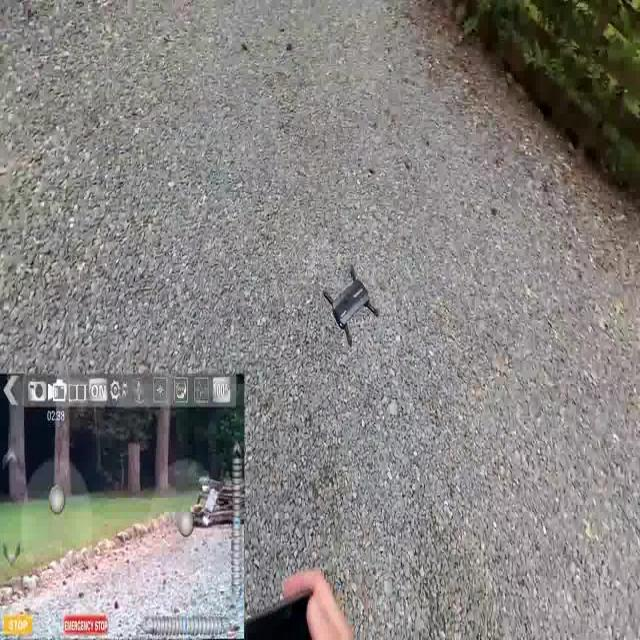drones: (317, 260, 385, 350)
